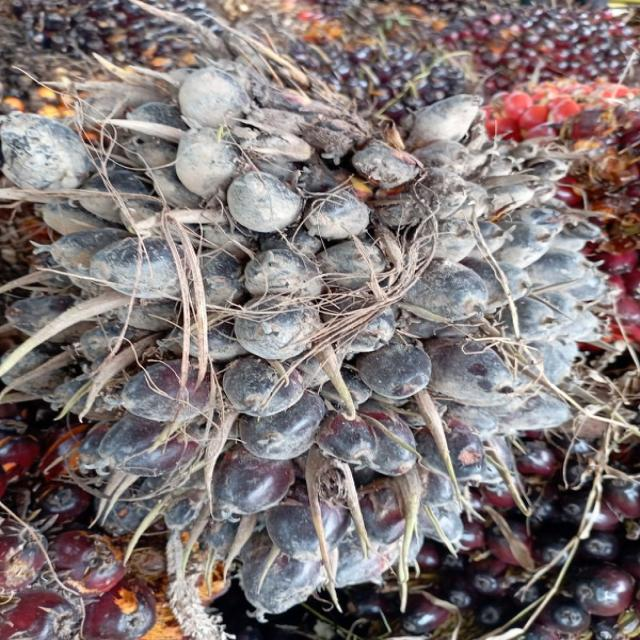fraksi 00: (43, 33, 602, 620)
